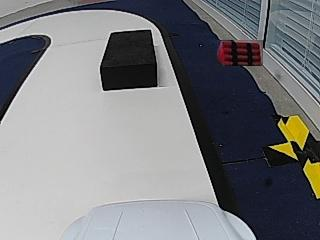block: (100, 30, 158, 90)
